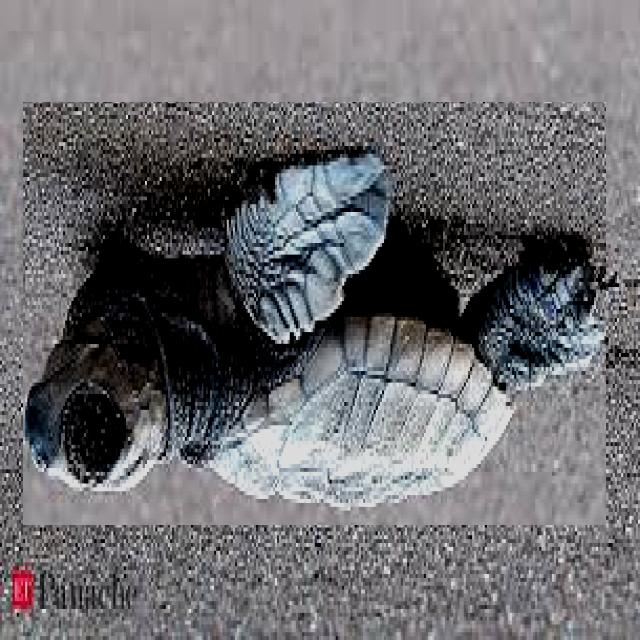Sea turtle: (24, 102, 608, 525)
